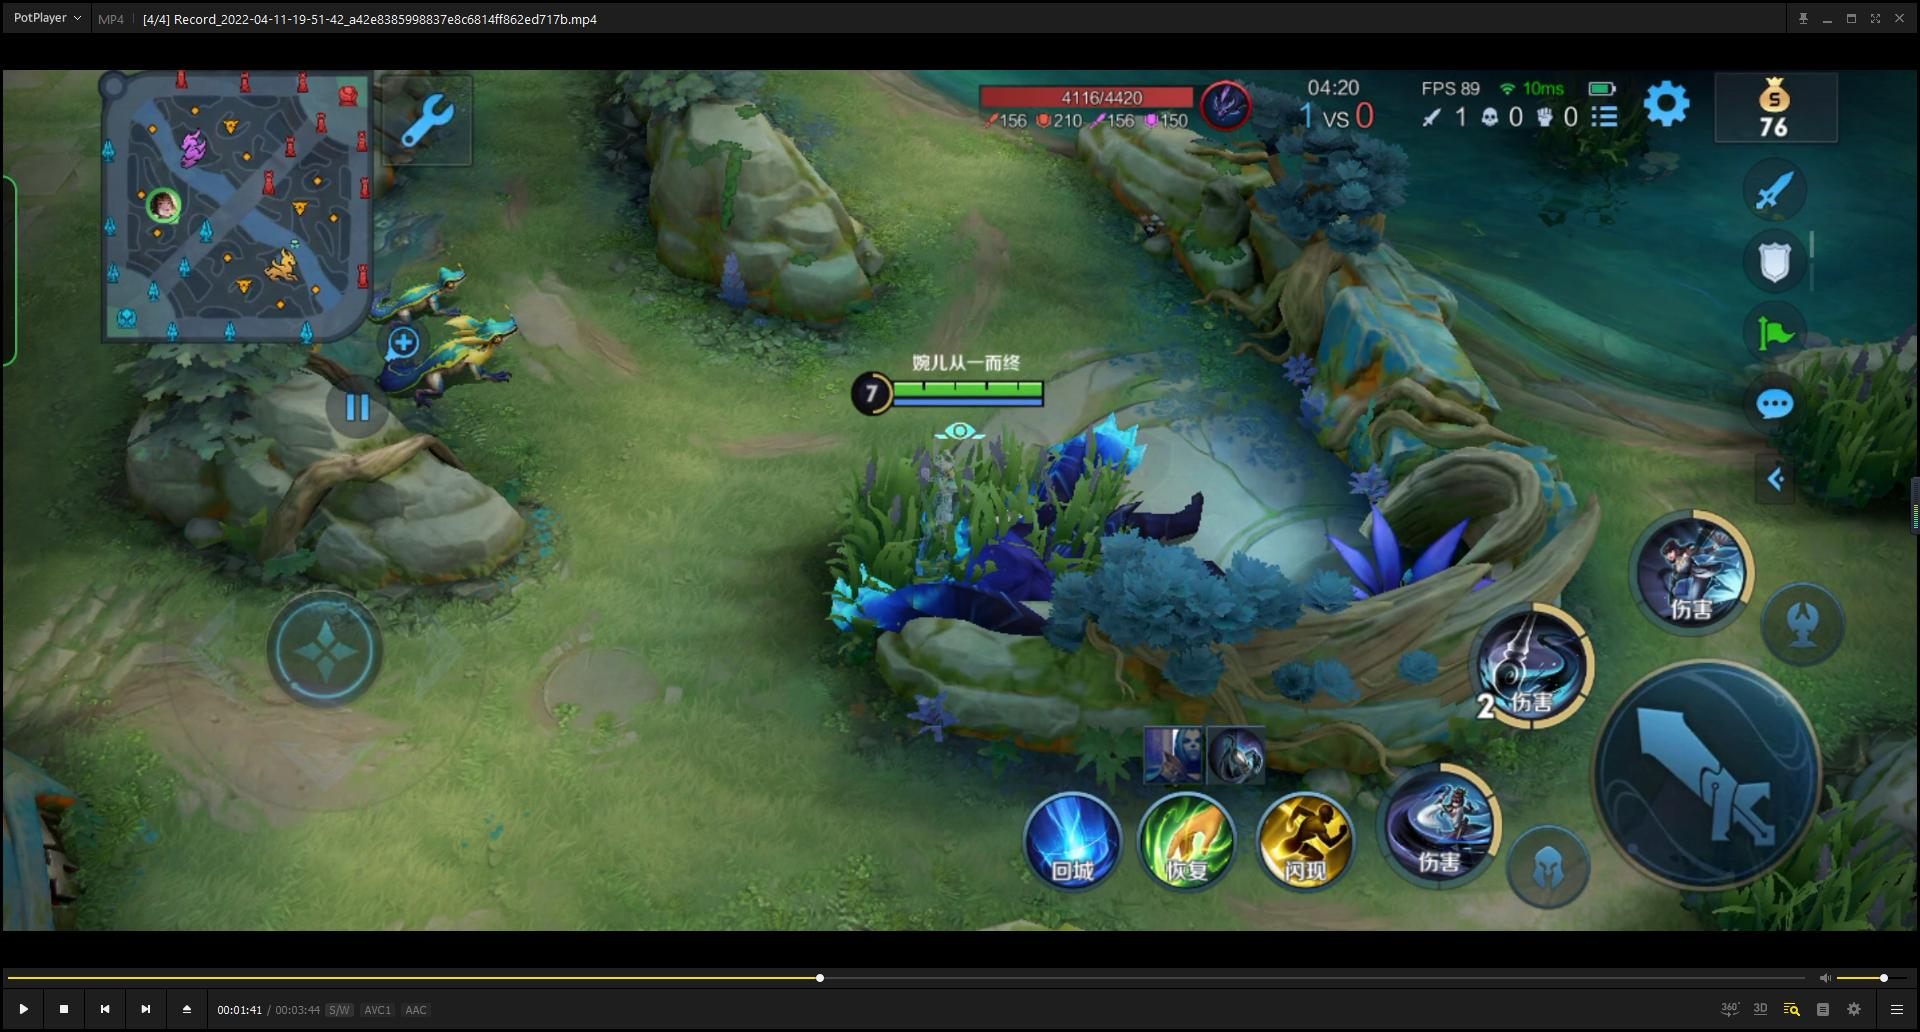Buff: (806, 403, 1233, 670)
Hero: (877, 418, 1023, 585)
Lizard: (349, 302, 520, 416), (349, 262, 492, 336)
